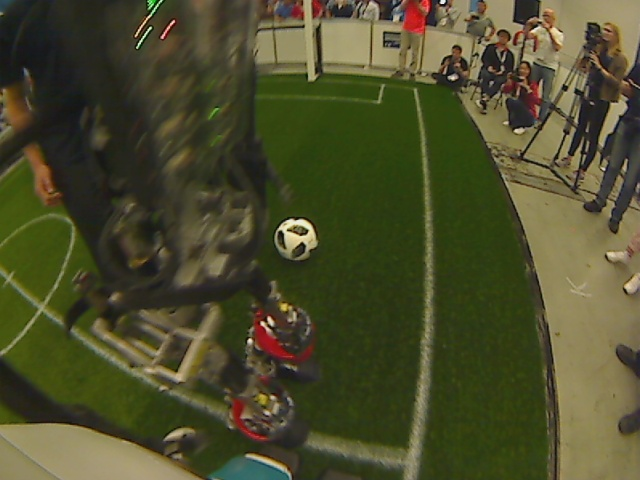ball: (272, 215, 320, 261)
